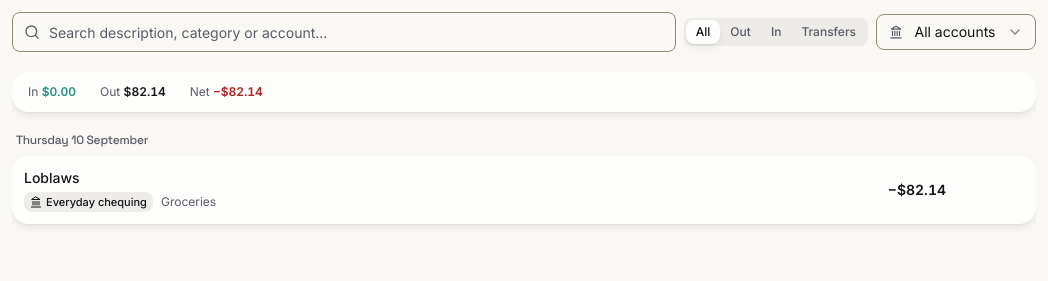
Scenario: when there is nothing to show › distinguishes a filter matching nothing from an empty ledger
This screenshot has width=1048, height=281.
Type "holiday" into the field with placeholder "Search description, category or account…" at (344, 32), box x1=12 y1=12 x2=676 y2=52
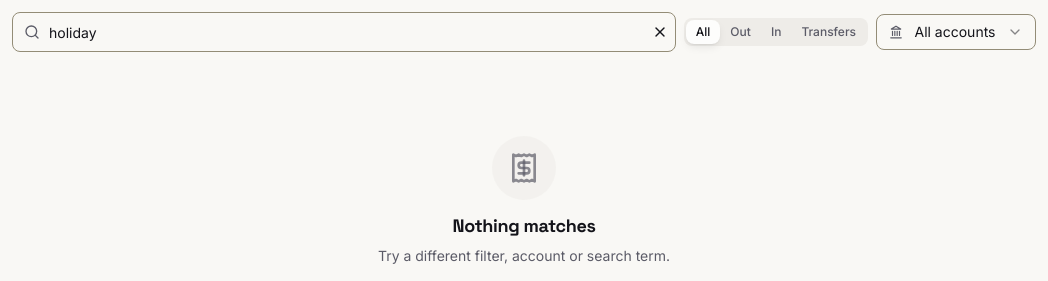
Check: the heading "Nothing matches" is shown, box x1=452 y1=216 x2=596 y2=237
